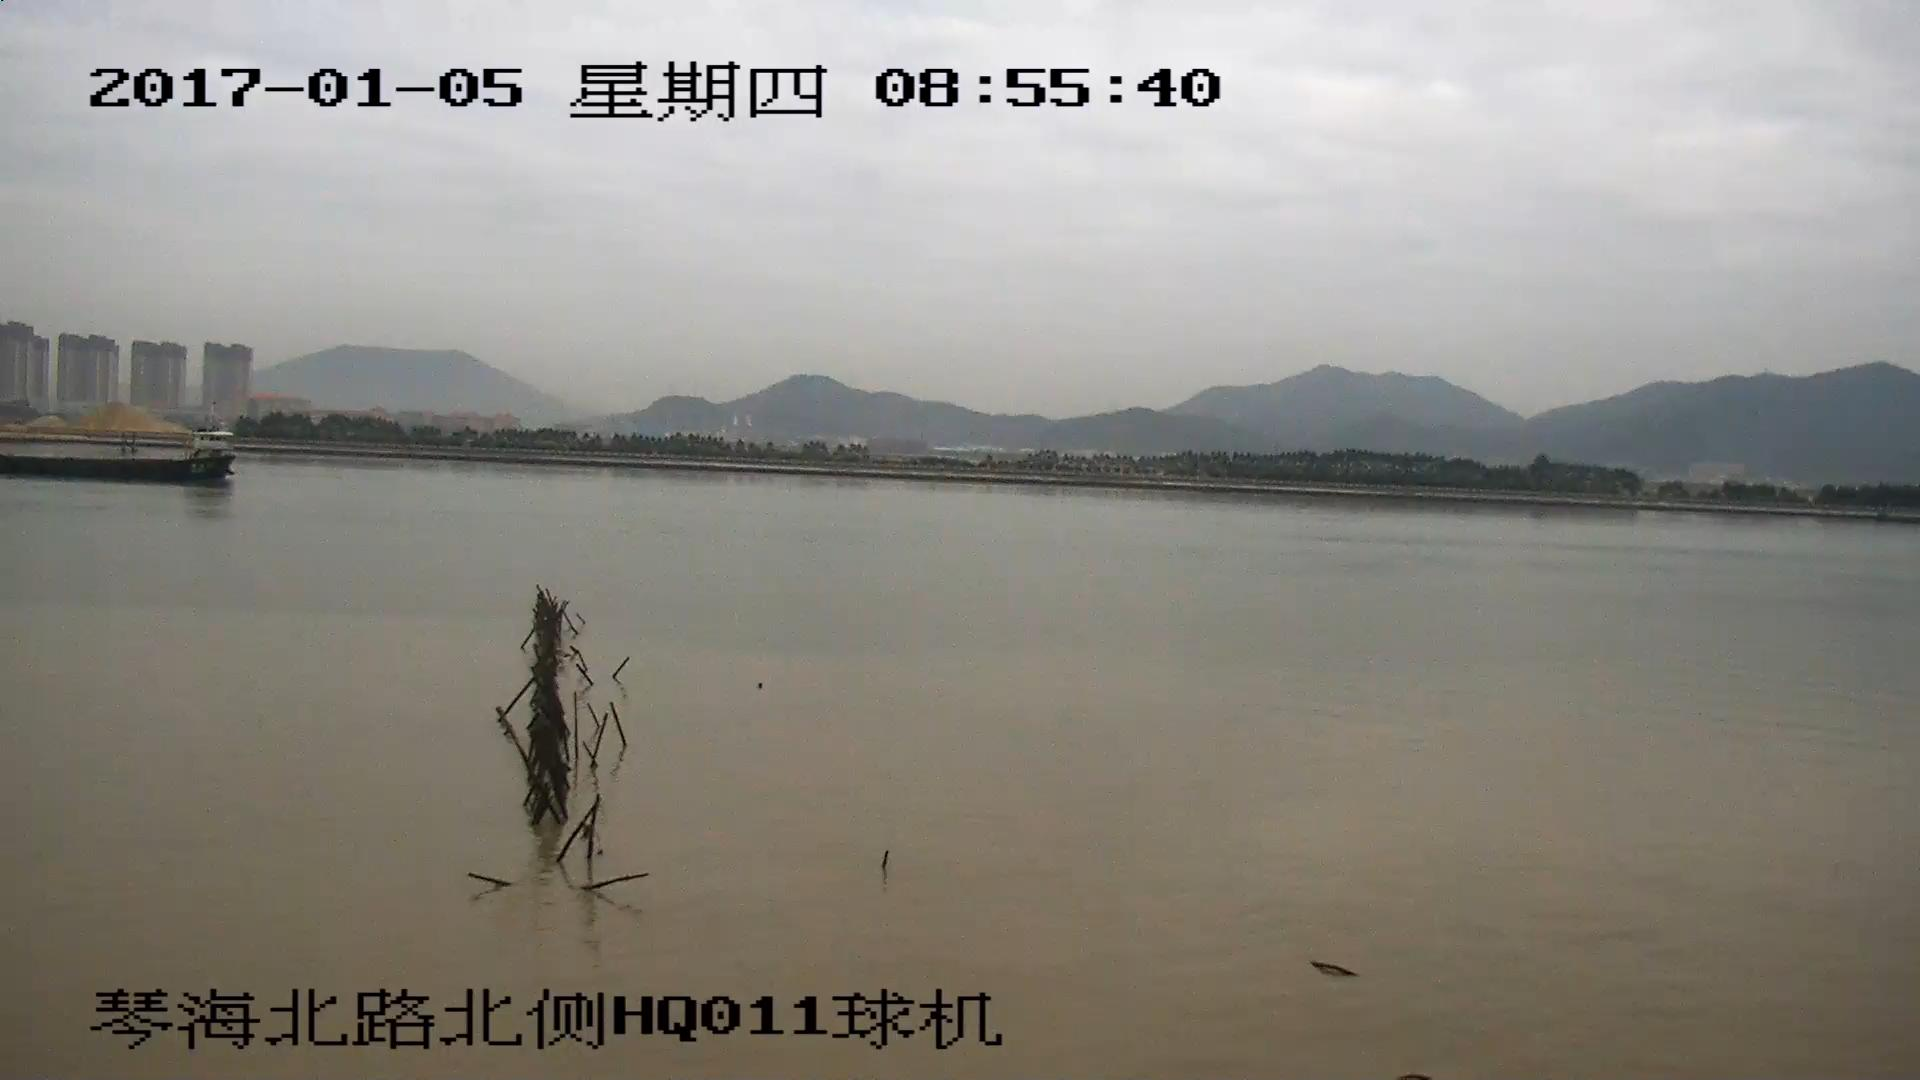general cargo ship: (1, 411, 233, 482)
